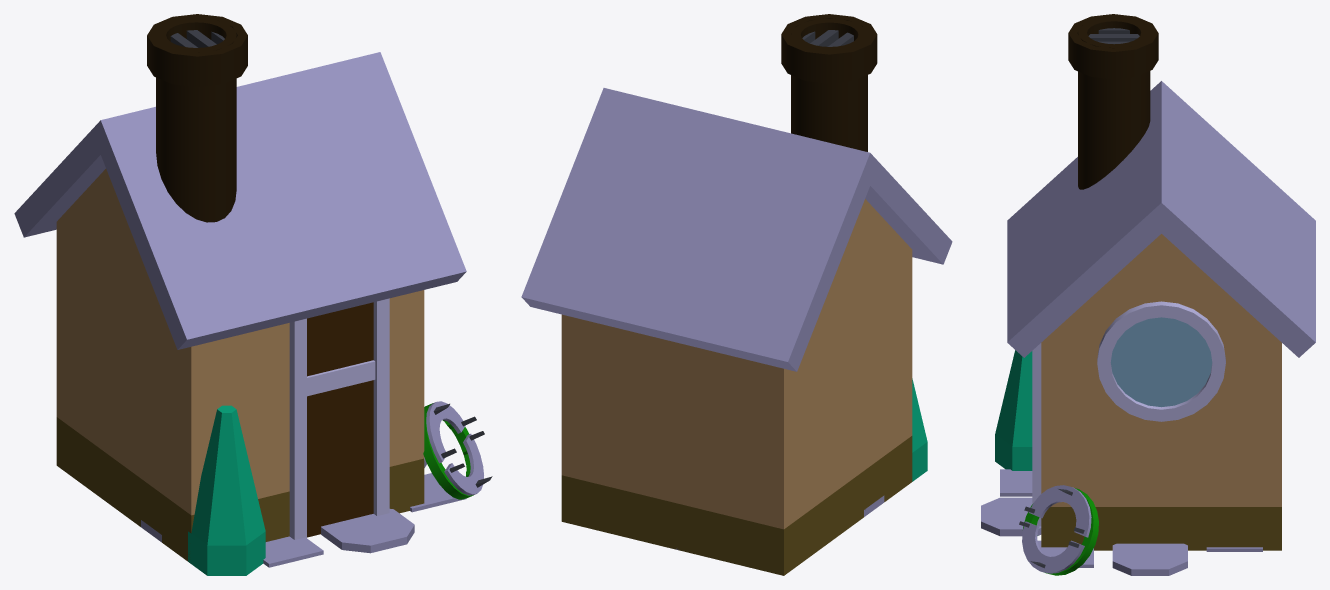
File: Trapper.fbx
The picture shows the model from 3 angles, left to right: view 1: azimuth 30°, elevation 25°; view 2: azimuth 150°, elevation 25°; view 3: azimuth 270°, elevation 25°; orthographic projection. The views are drawn at different scales.
Visible parts, largest first — view 1: mergedBlocks; view 2: mergedBlocks; view 3: mergedBlocks.
Part boxes in pixels (x1,y1,x2,y2): mergedBlocks: (14,14,492,575); mergedBlocks: (521,14,952,575); mergedBlocks: (981,14,1315,575).
Size of the model in its own units: 11.4 by 16.07 by 11.13.
